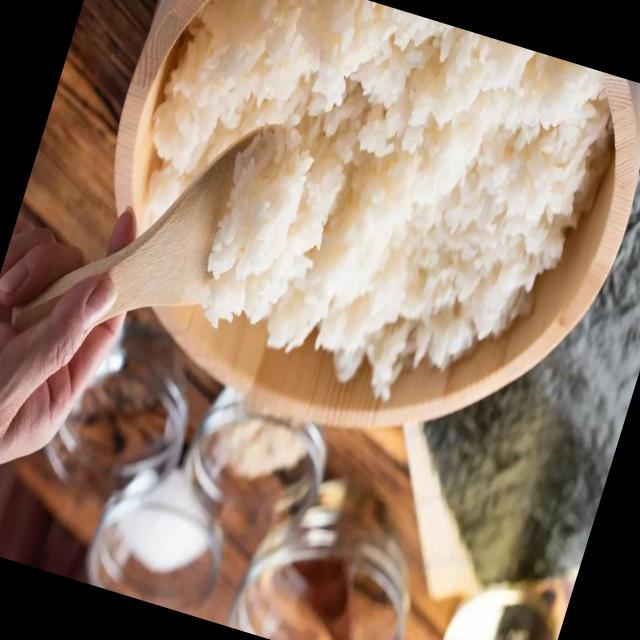rice: (143, 0, 604, 388)
